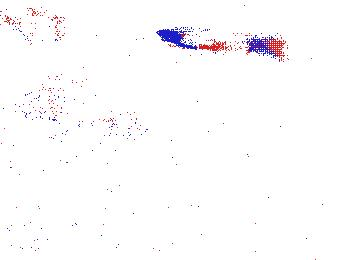X-ray fish: (15, 74, 99, 121)
red belly glassfish: (238, 146, 250, 171)
redtail glassfish: (160, 26, 276, 58), (50, 109, 152, 141), (1, 4, 63, 44)
